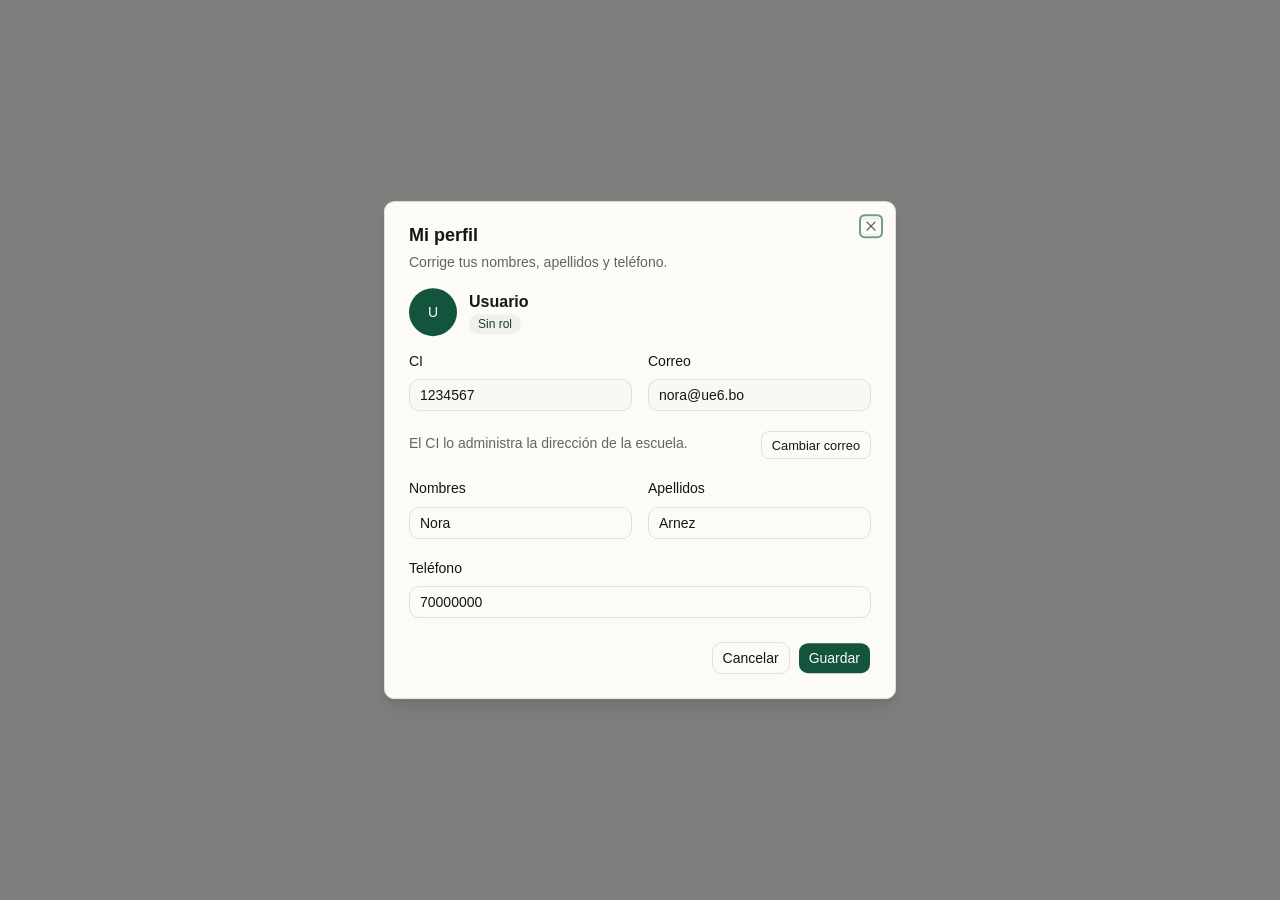
Test: ProfileDialog › cambiar correo › no manda nada con un correo inválido o sin contraseña
expect the field labelled "Nombres" is shown: met, box [409,507,632,539]
Click the button "Cambiar correo": (816, 445) [761,431,871,459]
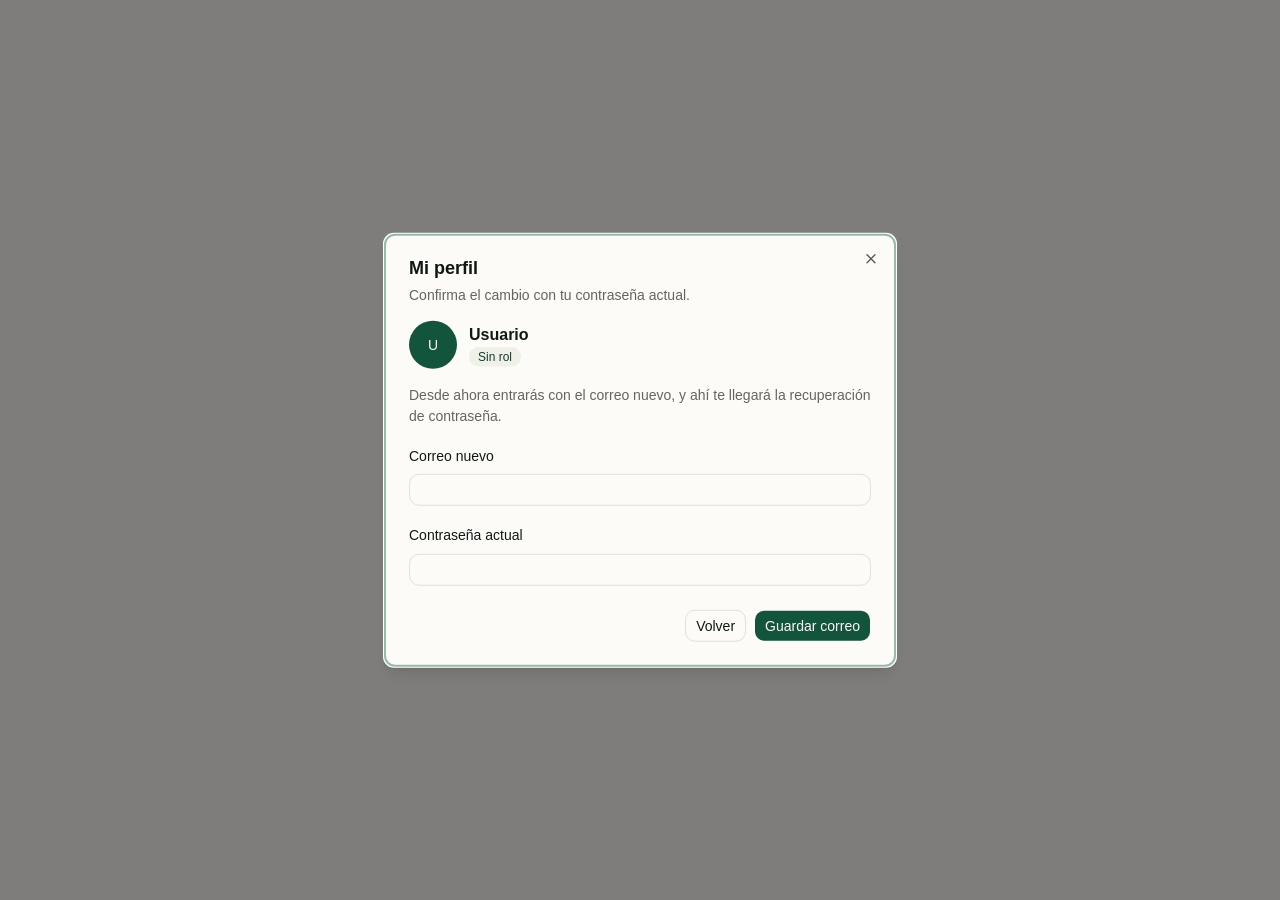
In the field labelled "Correo nuevo": (640, 490) [409,474,871,506], type "no-es-correo"
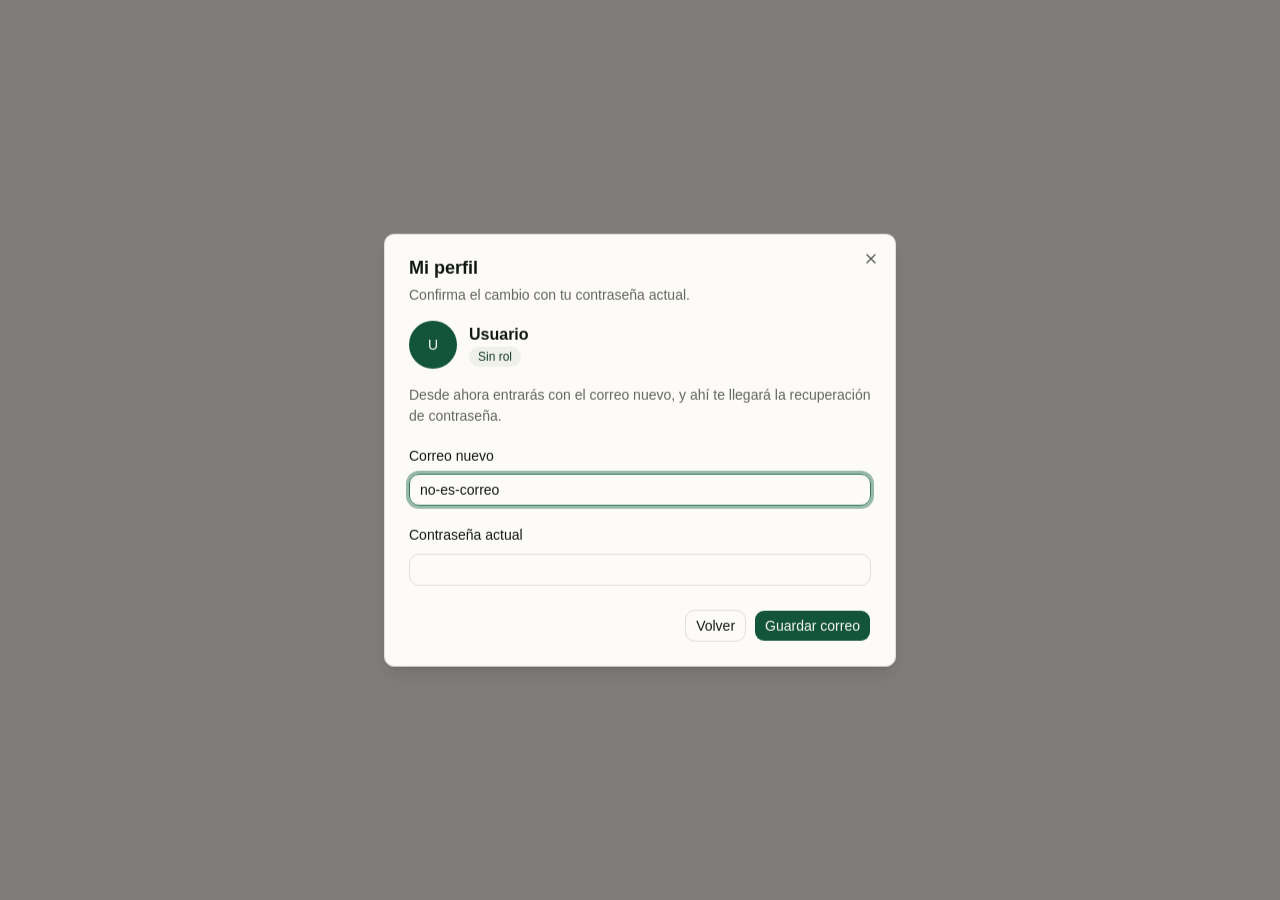
Click the button "Guardar correo": (813, 625) [754,609,871,641]
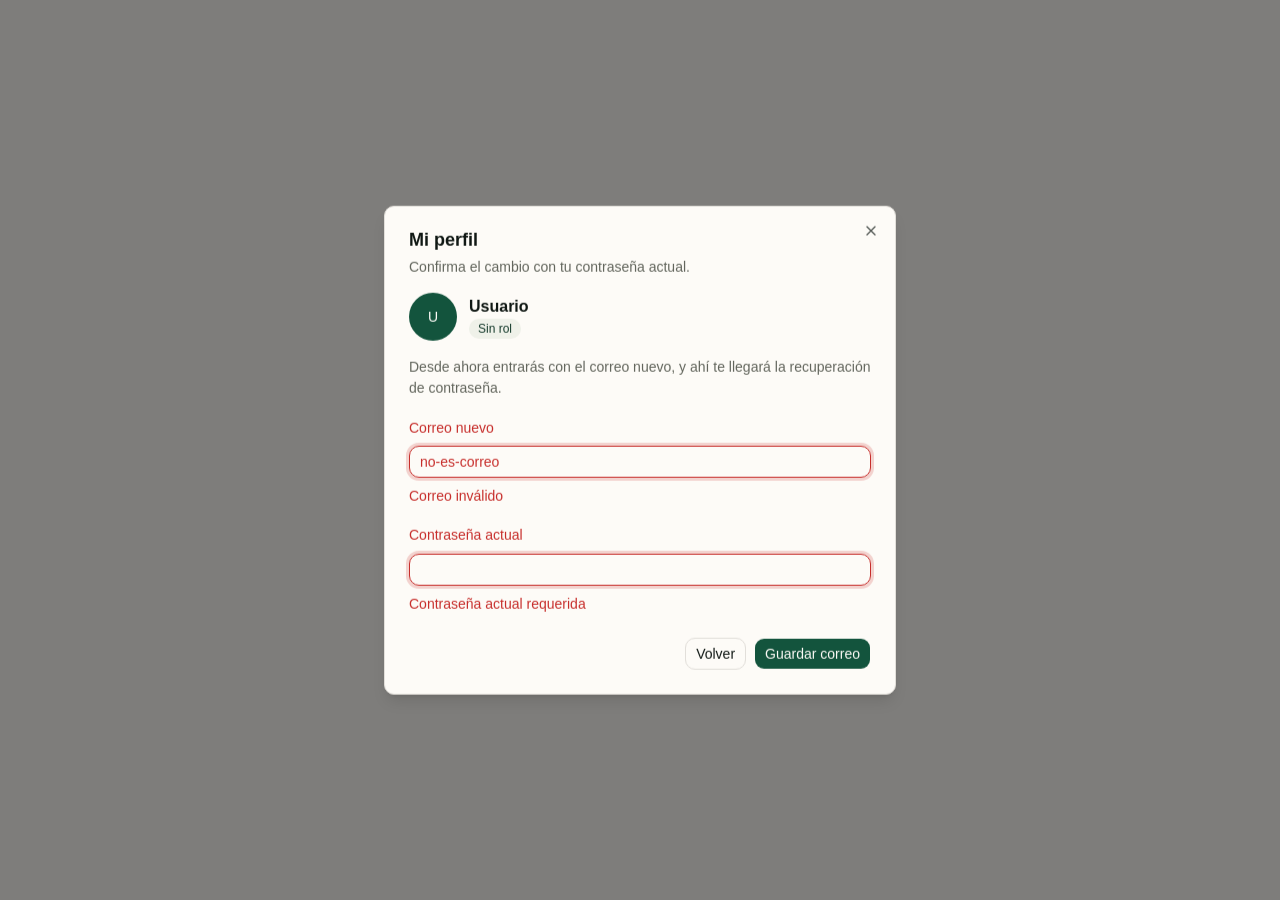
expect the text "Correo inválido" is shown: met, box [409,488,503,504]
expect the text "Contraseña actual requerida" is shown: met, box [409,595,586,611]
